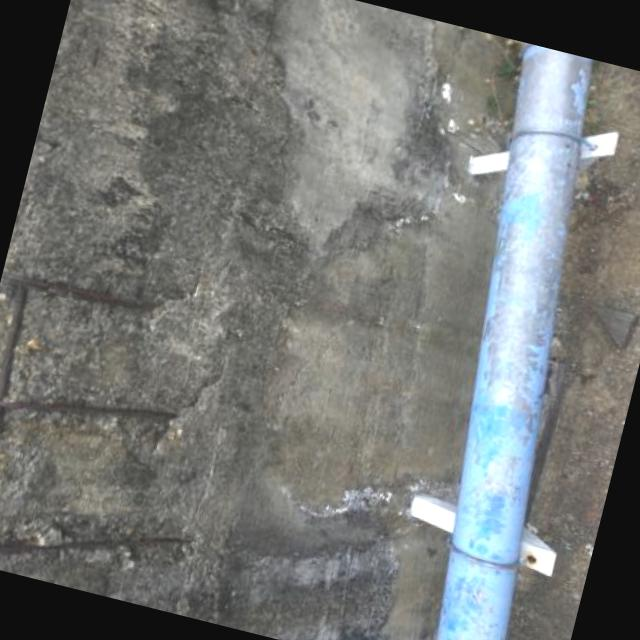gas: (437, 53, 595, 640)
